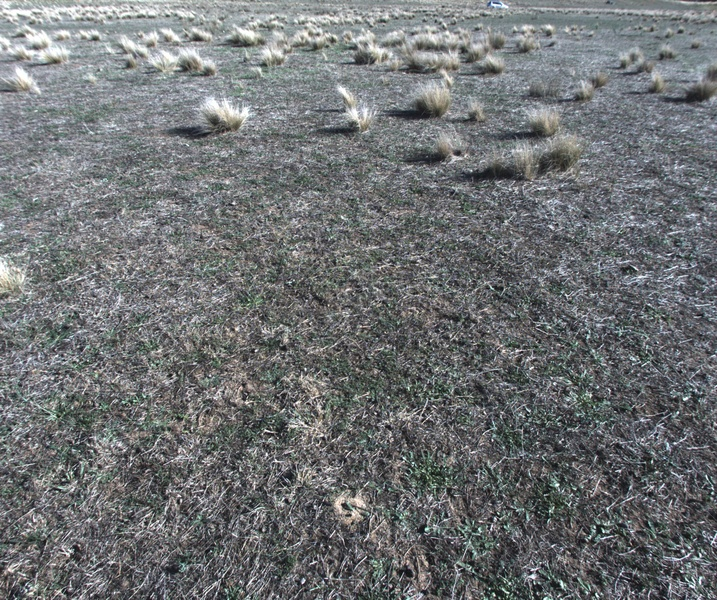st: (197, 90, 256, 137), (536, 137, 583, 174), (416, 74, 454, 118), (428, 130, 474, 163), (340, 103, 379, 141), (527, 105, 561, 141), (510, 142, 540, 180), (1, 70, 36, 98), (409, 50, 443, 76), (229, 22, 259, 47), (412, 25, 442, 50), (1, 254, 23, 286), (685, 78, 717, 99), (356, 31, 376, 63), (24, 26, 52, 48), (335, 80, 355, 108), (156, 46, 174, 76), (185, 27, 216, 44), (481, 56, 506, 77), (180, 53, 206, 73), (43, 46, 68, 66), (9, 44, 32, 65), (263, 48, 289, 66), (652, 67, 667, 98), (465, 97, 487, 118), (116, 34, 137, 56), (518, 35, 538, 54), (470, 39, 487, 60), (658, 44, 674, 66), (576, 80, 592, 101), (383, 29, 400, 48), (616, 46, 628, 72), (75, 28, 99, 41), (197, 63, 221, 76), (378, 47, 394, 66), (539, 22, 555, 40), (593, 75, 612, 90), (162, 25, 178, 42), (294, 26, 307, 46), (629, 48, 645, 64), (274, 34, 288, 52), (704, 63, 717, 82), (323, 30, 336, 48), (310, 38, 323, 53), (342, 31, 355, 46), (138, 30, 154, 42), (309, 25, 321, 40), (141, 44, 149, 63), (56, 30, 68, 42), (689, 37, 702, 48)
